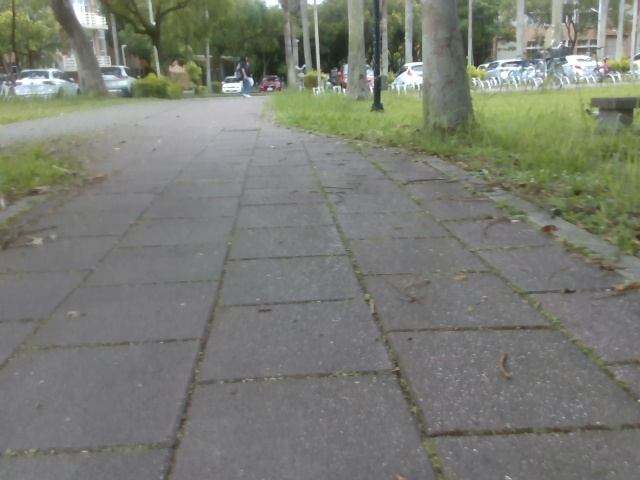grass: (252, 62, 639, 264), (99, 0, 422, 96), (431, 0, 639, 110), (0, 0, 102, 95), (0, 91, 225, 124), (0, 148, 70, 212)
road: (0, 97, 639, 479)
